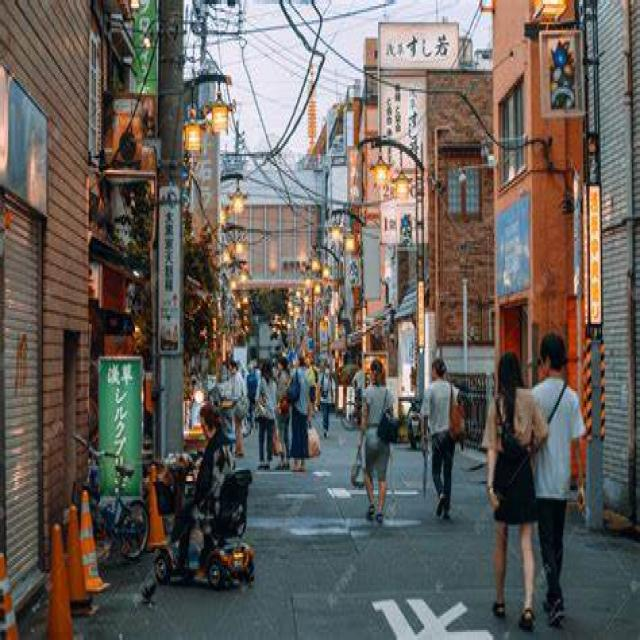sit: (163, 403, 240, 571)
stand: (536, 339, 574, 609), (494, 355, 531, 614), (423, 351, 471, 543), (356, 343, 396, 527), (290, 353, 316, 484), (261, 364, 287, 476), (221, 362, 250, 456)
